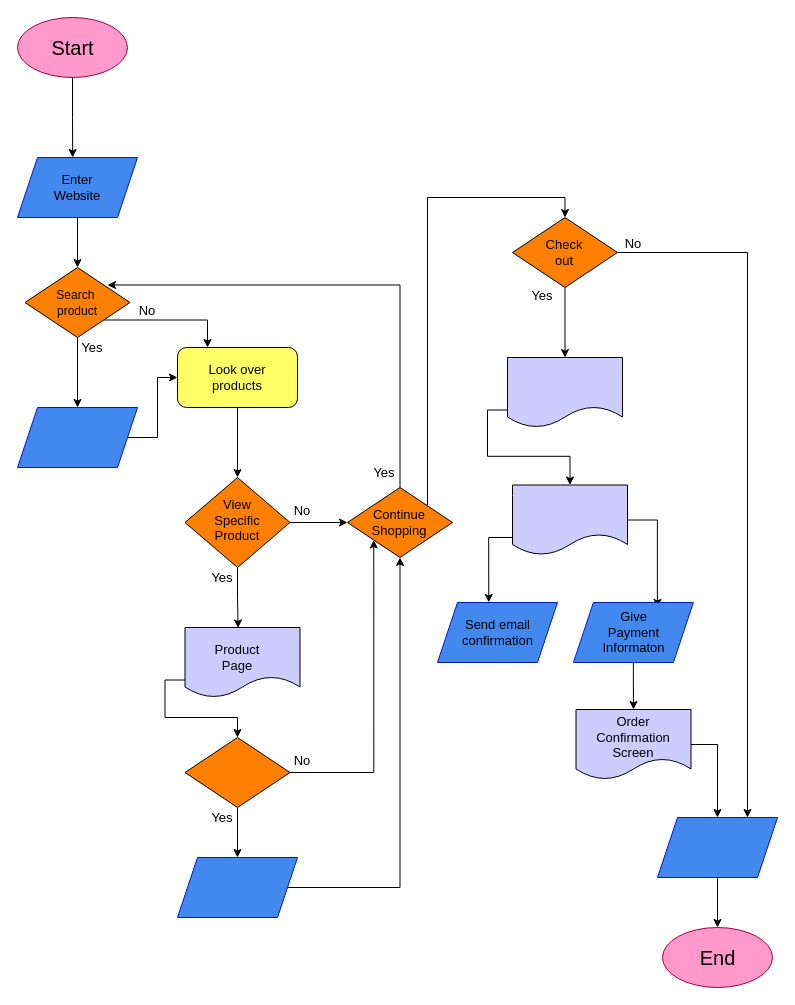
The diagram is 795 pixels wide and 1005 high, and some of its shapes have lost their labels. The centre of each missing label's shape, as x and y in pixels:
Add to cart: the point at 237,772
added to cart confirmation: the point at 237,887
Enter Product name: the point at 77,437
Leave website: the point at 717,847
View Cart Screen: the point at 564,392
View Payment Screen: the point at 570,519
